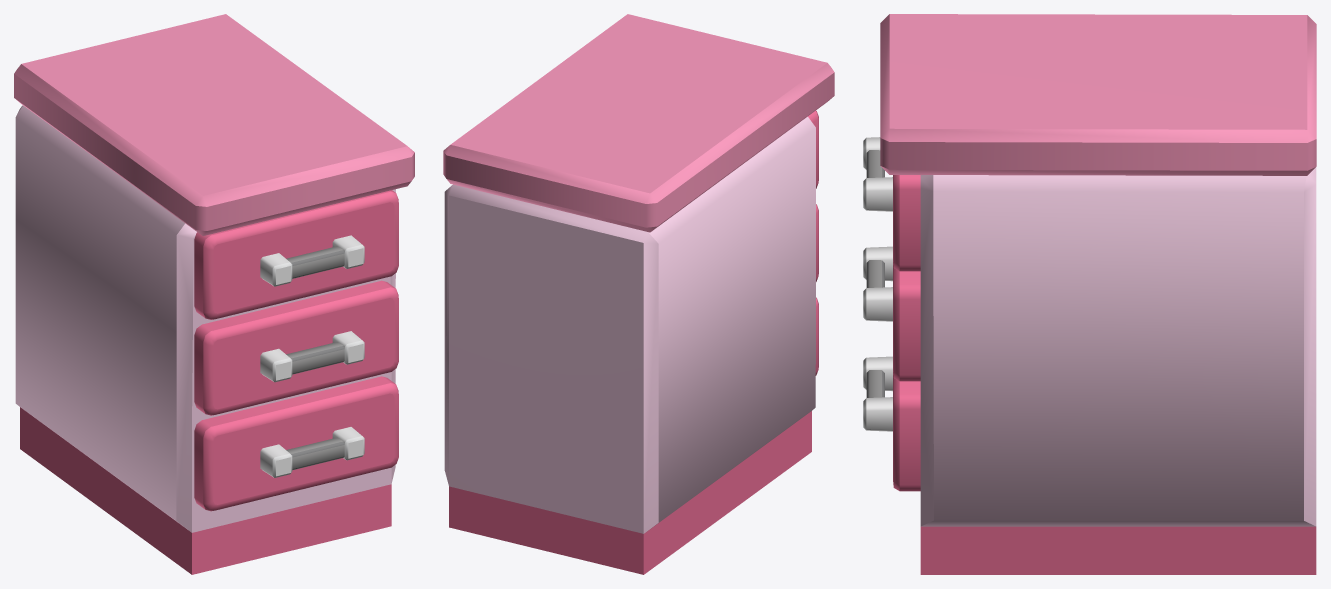
File: Furnit_F_3.glb
3 renders of one model, left to right at view 1: azimuth 30°, elevation 25°; view 2: azimuth 150°, elevation 25°; view 3: azimuth 270°, elevation 25°, orthographic. The views are drawn at different scales.
Visible parts, largest first — view 1: Furnit_F_3; view 2: Furnit_F_3; view 3: Furnit_F_3.
Part boxes in pixels (box(x1,y1,x2,y2)): Furnit_F_3: box(14, 14, 414, 574); Furnit_F_3: box(443, 14, 834, 574); Furnit_F_3: box(863, 14, 1316, 574).
Bounding box in the file's own units: 0.6 × 1.02 × 0.9348.
Materials: 1 (1 with a texture image).
